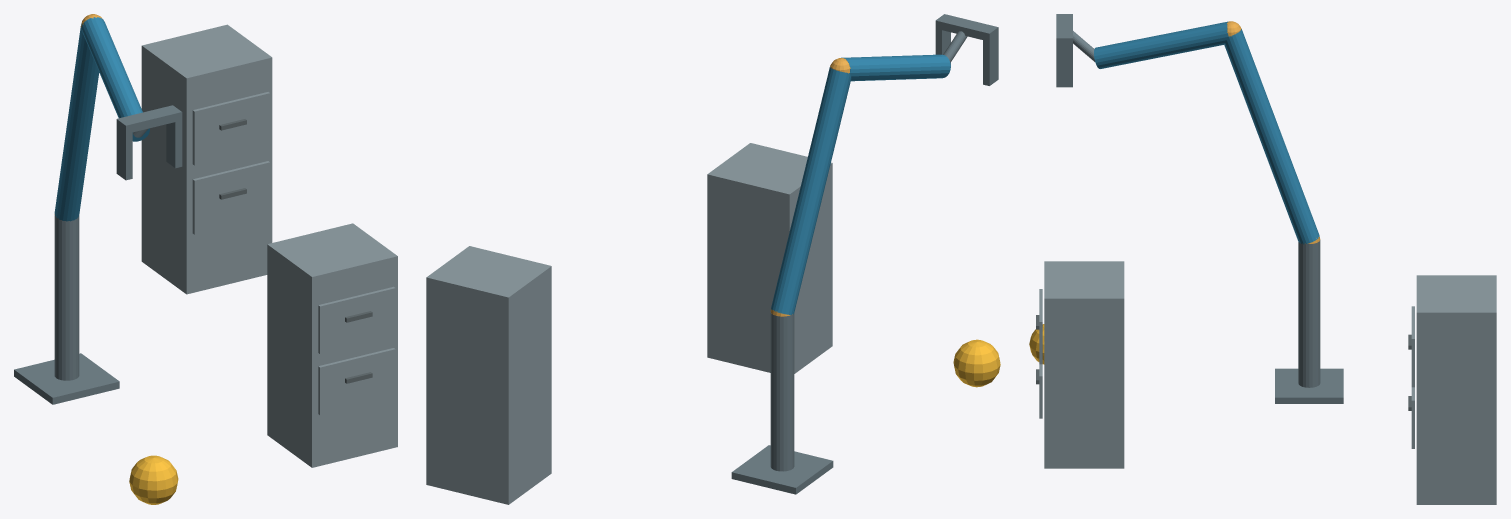
The picture shows the model from 3 angles, left to right: view 1: azimuth 30°, elevation 25°; view 2: azimuth 150°, elevation 25°; view 3: azimuth 270°, elevation 25°; orthographic projection. The views are drawn at different scales.
Parts seen in each view (by area): view 1: cabinet_2 body, cabinet_1 body, moving link 1, cabinet_2 drawer front, cabinet_2 drawer front.001, fixed post, cabinet_1 drawer front.001, cabinet_1 drawer front, pedestal, moving link 2, ball ball_1, gripper bridge (+2 smaller); view 2: cabinet_2 body, cabinet_1 body, moving link 1, fixed post, pedestal, moving link 2, ball ball_1, gripper bridge, gripper finger -1; view 3: cabinet_2 body, cabinet_1 body, moving link 1, fixed post, moving link 2, pedestal, gripper finger 1, gripper bridge.
Boxes of the visible parts, box(x1,y1,x2,y2) form: cabinet_2 body: box(141, 24, 272, 294); cabinet_1 body: box(267, 223, 397, 467); moving link 1: box(54, 23, 99, 221); cabinet_2 drawer front: box(192, 161, 269, 234); cabinet_2 drawer front.001: box(192, 92, 269, 165); fixed post: box(54, 215, 79, 380); cabinet_1 drawer front.001: box(318, 286, 395, 353); cabinet_1 drawer front: box(318, 348, 395, 415); pedestal: box(14, 353, 119, 404); moving link 2: box(81, 17, 149, 141); ball ball_1: box(129, 455, 178, 504); gripper bridge: box(116, 105, 182, 133); cabinet_2 body: box(426, 246, 551, 504); cabinet_1 body: box(707, 143, 832, 373); moving link 1: box(771, 67, 851, 314); fixed post: box(770, 312, 794, 471); pedestal: box(731, 445, 833, 494); moving link 2: box(841, 54, 950, 81); ball ball_1: box(953, 339, 1000, 387); gripper bridge: box(935, 14, 998, 41); gripper finger -1: box(983, 35, 998, 85); cabinet_2 body: box(1416, 275, 1496, 504); cabinet_1 body: box(1044, 261, 1124, 468); moving link 1: box(1224, 29, 1319, 244); fixed post: box(1298, 240, 1320, 387); moving link 2: box(1094, 21, 1228, 68); pedestal: box(1275, 368, 1343, 403); gripper finger 1: box(1056, 46, 1072, 87); gripper bridge: box(1056, 14, 1072, 45).
Size of the model in its own units: 1.3 by 1.44 by 1.69.
